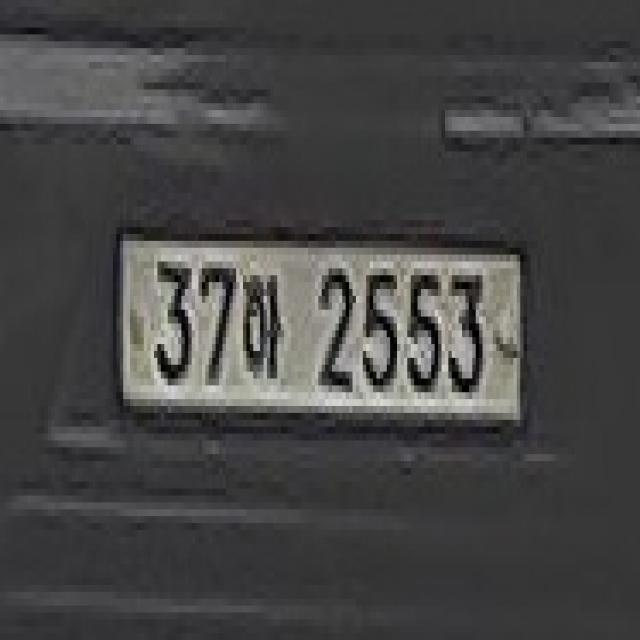2: (315, 262, 356, 392)
3: (147, 248, 192, 378), (448, 262, 486, 392)
5: (400, 262, 445, 392), (360, 262, 400, 392)
7: (195, 262, 236, 386)
ha: (240, 268, 284, 386)
license_plate: (116, 220, 527, 440)
